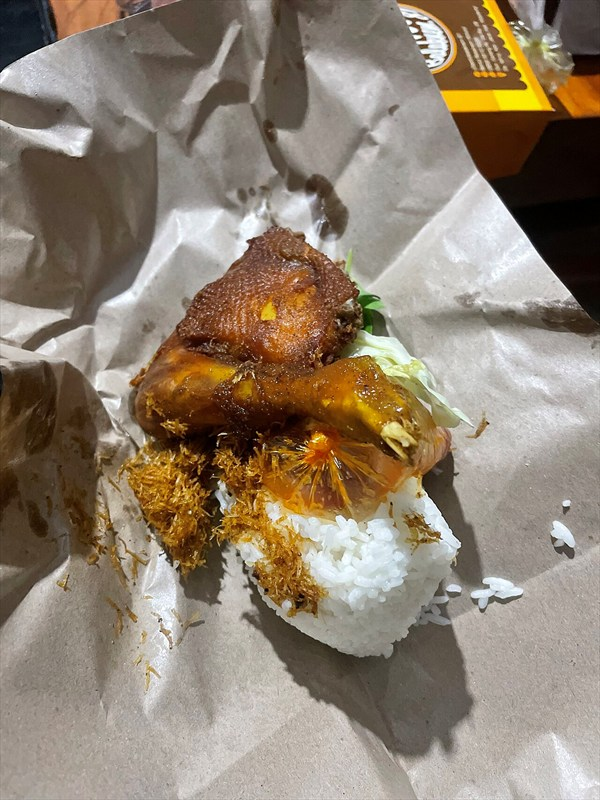Ayam Goreng: (61, 45, 565, 615)
